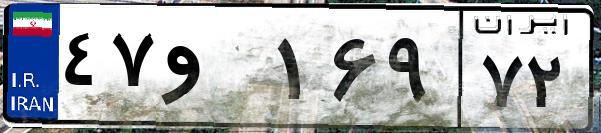1: (270, 28, 330, 110)
2: (525, 38, 570, 115)
4: (57, 26, 110, 100)
6: (330, 28, 385, 110)
7: (475, 38, 525, 113), (110, 28, 158, 98)
9: (385, 28, 445, 110)
و: (158, 20, 270, 120)
